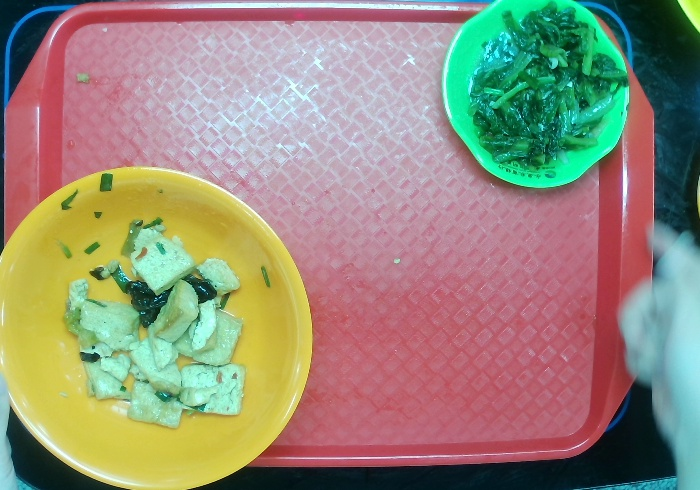YKMZ-Ju_Se_Tang_Wan: (1, 162, 319, 490)
YKMZ-Lv_Se_Ao_Bian_Wan: (438, 1, 636, 198)
